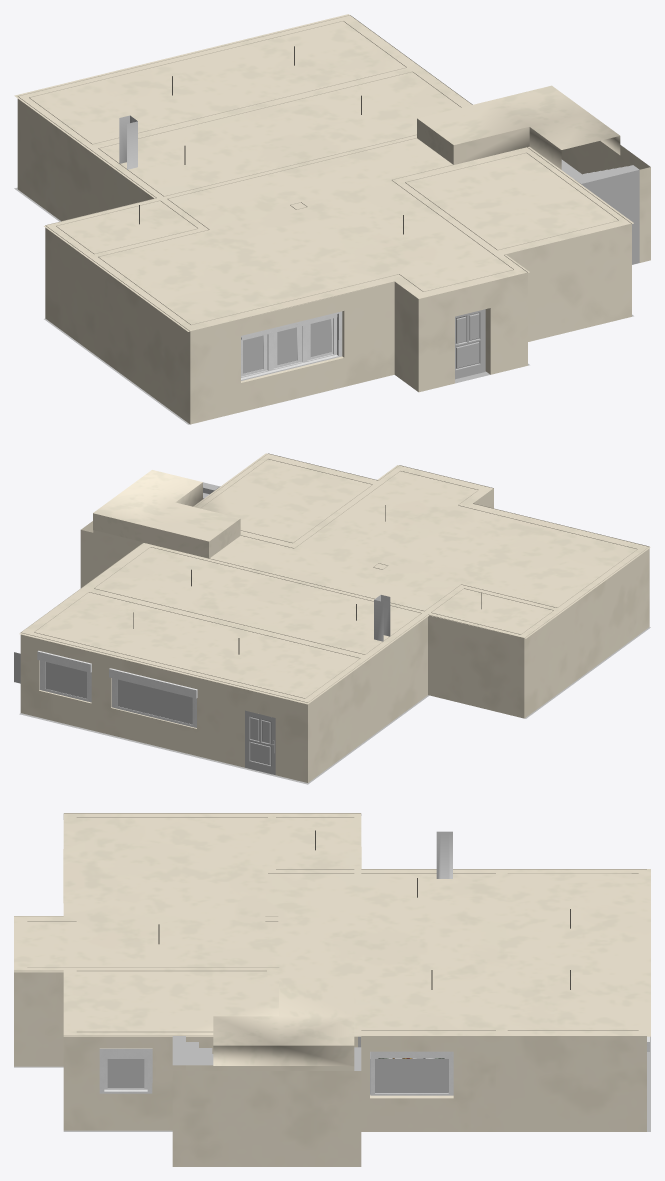
The model's file is CasaSin texturas.fbx.
3 views of the same model, one above another, from view 1: azimuth 30°, elevation 25°; view 2: azimuth 150°, elevation 25°; view 3: azimuth 270°, elevation 25° (orthographic). The views are drawn at different scales.
Parts seen in each view (by area): view 1: suelo.001, paredes, suelo, PuertaPrincipal.006, VentanaComedor.001, VentanaComedor.003, VentanaComedor.004, VentanaComedor.002, Campana; view 2: suelo.001, paredes, Plane.002, PuertaPrincipal.003, ventana, Plane.003, suelo, ventana.001, Campana; view 3: suelo.001, paredes, Plane.004, suelo, VentanaComedor, VentanaComedor.006, Plane.005, Campana.
Boxes of the visible parts, x1,y1,x2,y2 form: suelo.001: [14, 14, 633, 331]; paredes: [17, 15, 650, 424]; suelo: [14, 159, 639, 424]; PuertaPrincipal.006: [455, 309, 485, 379]; VentanaComedor.001: [241, 311, 342, 380]; VentanaComedor.003: [273, 326, 302, 368]; VentanaComedor.004: [241, 334, 267, 376]; VentanaComedor.002: [307, 318, 333, 360]; Campana: [119, 115, 137, 169]; suelo.001: [19, 453, 650, 704]; paredes: [20, 453, 649, 782]; Plane.002: [117, 679, 192, 724]; PuertaPrincipal.003: [245, 710, 275, 774]; ventana: [109, 668, 197, 727]; Plane.003: [14, 652, 86, 698]; suelo: [19, 482, 650, 784]; ventana.001: [37, 650, 91, 702]; Campana: [374, 595, 390, 641]; suelo.001: [14, 813, 650, 1066]; paredes: [14, 813, 646, 1166]; Plane.004: [370, 1059, 448, 1094]; suelo: [14, 1036, 650, 1131]; VentanaComedor: [99, 1048, 152, 1093]; VentanaComedor.006: [370, 1051, 453, 1095]; Plane.005: [107, 1059, 144, 1088]; Campana: [436, 831, 452, 878].
Bounding box in the file's own units: 8248 × 2154 × 8590.
